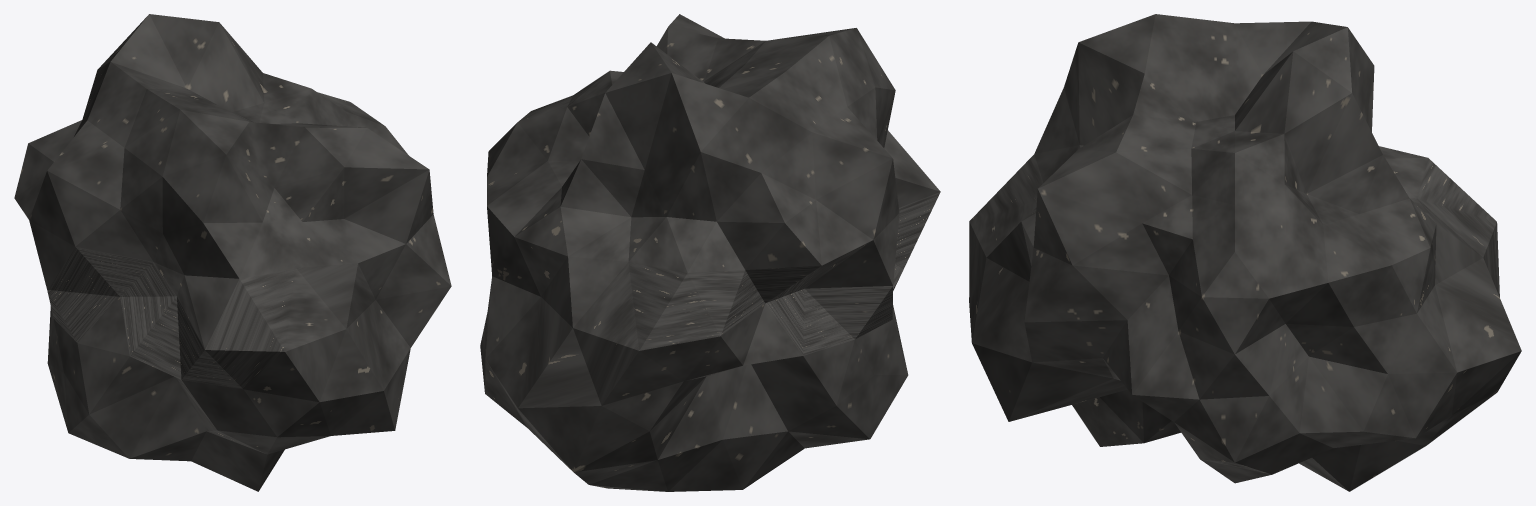
File: planet_01.glb
3 renders of one model, left to right at view 1: azimuth 30°, elevation 25°; view 2: azimuth 150°, elevation 25°; view 3: azimuth 270°, elevation 25°, orthographic. The views are drawn at different scales.
Parts seen in each view (by area): view 1: Body; view 2: Body; view 3: Body.
Boxes of the visible parts, x1=… form: Body: x1=14, y1=14, x2=451, y2=491; Body: x1=480, y1=14, x2=940, y2=491; Body: x1=969, y1=14, x2=1521, y2=491.
Size of the model in its own units: 1.51 by 1.57 by 1.82.
Materials: 1 (1 with a texture image).
